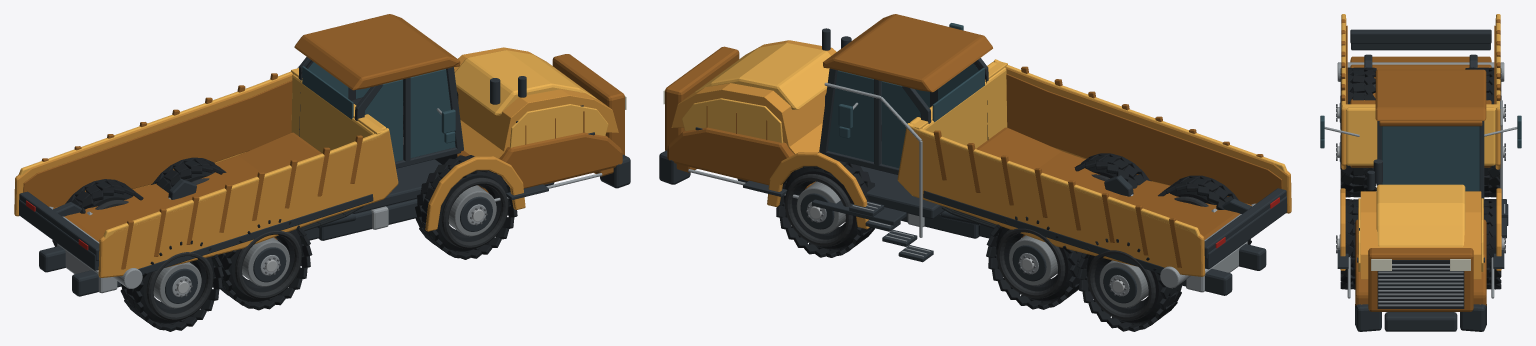
File: cat-725-structural-study.glb
The picture shows the model from 3 angles, left to right: view 1: azimuth 30°, elevation 25°; view 2: azimuth 150°, elevation 25°; view 3: azimuth 270°, elevation 25°; orthographic projection. The views are drawn at different scales.
Parts seen in each view (by area): view 1: Dump_Body_Side_R, Dump_Body_Inner_L, Cab_Roof, Dump_Body_Scow_Underbody, Engine_Hood_Main, Engine_Hood_Lower_Step, Engine_Hood_Crown, Dump_Body_Front_Headboard, Cab_Right_Front_Glass, Hood_Service_Door_R, Dump_Body_Side_L, Front_Fender_Arch_R (+31 smaller); view 2: Dump_Body_Side_L, Dump_Body_Inner_R, Cab_Roof, Dump_Body_Scow_Underbody, Engine_Hood_Crown, Engine_Hood_Lower_Step, Engine_Hood_Main, Dump_Body_Front_Headboard, Cab_Left_Front_Glass, Hood_Service_Door_L, Dump_Body_Side_R, Front_Grille_Frame (+32 smaller); view 3: Cab_Front_Glass, Cab_Roof, Engine_Hood_Crown, Front_Grille, Engine_Hood_Main, Dump_Body_Front_Headboard, Front_Grille_Frame, Rear_Light_Bar, Dump_Body_Scow_Underbody, Front_Bumper_Center, Engine_Hood_Lower_Step, Dump_Body_Rear_Rock_Lip (+33 smaller).
Boxes of the visible parts, left/top/right/bottom form: Dump_Body_Side_R: left=98, top=130, right=398, bottom=277; Dump_Body_Inner_L: left=23, top=80, right=292, bottom=207; Cab_Roof: left=294, top=14, right=460, bottom=90; Dump_Body_Scow_Underbody: left=53, top=132, right=321, bottom=241; Engine_Hood_Main: left=454, top=47, right=618, bottom=158; Engine_Hood_Lower_Step: left=457, top=132, right=622, bottom=192; Engine_Hood_Crown: left=454, top=50, right=595, bottom=115; Dump_Body_Front_Headboard: left=291, top=74, right=386, bottom=153; Cab_Right_Front_Glass: left=410, top=69, right=455, bottom=157; Hood_Service_Door_R: left=510, top=104, right=608, bottom=147; Dump_Body_Side_L: left=14, top=73, right=292, bottom=216; Front_Fender_Arch_R: left=425, top=156, right=525, bottom=231; Dump_Body_Side_L: left=897, top=128, right=1205, bottom=276; Dump_Body_Inner_R: left=1006, top=74, right=1282, bottom=204; Cab_Roof: left=823, top=14, right=992, bottom=92; Dump_Body_Scow_Underbody: left=976, top=127, right=1251, bottom=239; Engine_Hood_Crown: left=695, top=43, right=831, bottom=109; Engine_Hood_Lower_Step: left=667, top=127, right=815, bottom=189; Engine_Hood_Main: left=671, top=40, right=836, bottom=154; Dump_Body_Front_Headboard: left=910, top=62, right=1007, bottom=148; Cab_Left_Front_Glass: left=828, top=70, right=873, bottom=161; Hood_Service_Door_L: left=682, top=98, right=783, bottom=143; Dump_Body_Side_R: left=993, top=61, right=1291, bottom=213; Front_Grille_Frame: left=665, top=46, right=739, bottom=150; Cab_Front_Glass: left=1382, top=126, right=1479, bottom=191; Cab_Roof: left=1375, top=69, right=1486, bottom=120; Engine_Hood_Crown: left=1376, top=184, right=1465, bottom=246; Front_Grille: left=1377, top=260, right=1464, bottom=308; Engine_Hood_Main: left=1360, top=191, right=1481, bottom=279; Dump_Body_Front_Headboard: left=1346, top=107, right=1495, bottom=165; Front_Grille_Frame: left=1368, top=248, right=1473, bottom=311; Rear_Light_Bar: left=1350, top=29, right=1491, bottom=43; Dump_Body_Scow_Underbody: left=1350, top=56, right=1491, bottom=167; Front_Bumper_Center: left=1384, top=312, right=1457, bottom=331; Engine_Hood_Lower_Step: left=1355, top=219, right=1486, bottom=305; Dump_Body_Rear_Rock_Lip: left=1351, top=43, right=1490, bottom=50.
Size of the model in its own units: 10.45 by 3.5 by 3.68.
